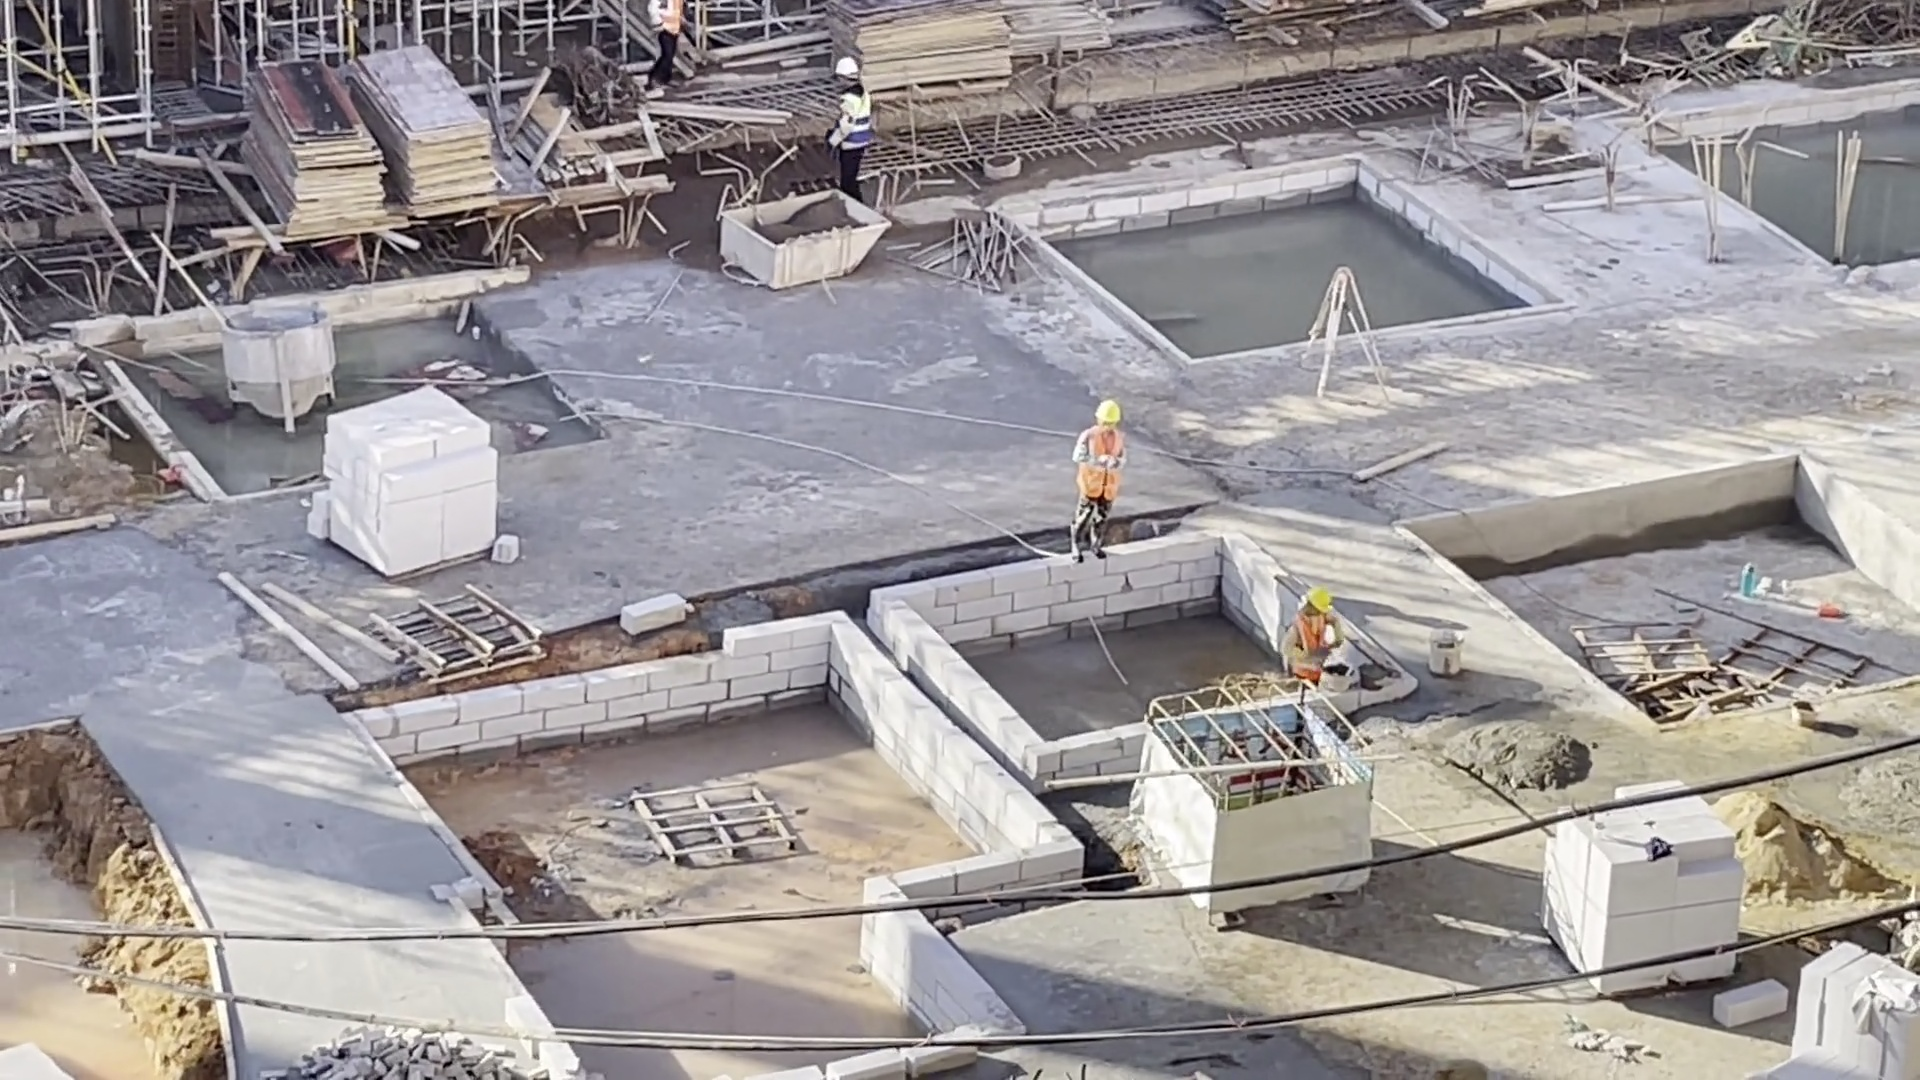board: (234, 63, 391, 243), (354, 42, 504, 228), (811, 2, 1021, 100)
brick: (315, 376, 491, 575), (1527, 830, 1749, 953), (1752, 935, 1917, 1080)
helmet: (1091, 398, 1124, 427), (1302, 587, 1337, 613), (833, 54, 859, 78)
hopper: (725, 187, 887, 291), (219, 304, 341, 438)
person: (1071, 397, 1128, 567), (825, 54, 875, 203), (1281, 584, 1347, 689), (643, 1, 687, 89)
vest: (1080, 427, 1122, 504), (1290, 612, 1329, 680), (838, 88, 874, 146), (657, 2, 684, 37)
